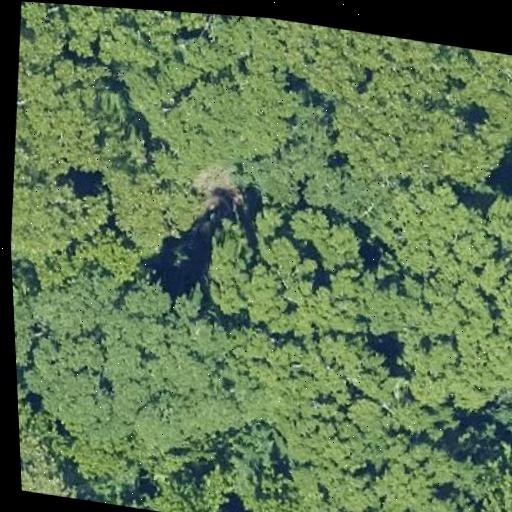tree-top: (12, 272, 252, 463), (234, 325, 421, 484), (326, 77, 506, 199), (367, 271, 507, 413), (63, 4, 265, 99), (11, 63, 135, 187), (372, 176, 491, 284), (200, 220, 329, 318), (191, 62, 305, 169), (96, 151, 205, 259), (366, 419, 491, 512), (7, 168, 111, 273), (280, 99, 370, 218), (270, 18, 395, 103), (471, 204, 512, 390), (449, 46, 512, 134), (292, 205, 371, 275), (69, 228, 147, 292), (146, 458, 235, 512), (466, 421, 512, 512), (20, 441, 88, 500), (16, 1, 76, 66), (17, 374, 52, 458), (486, 165, 512, 278), (247, 478, 332, 512), (325, 464, 380, 512), (72, 484, 161, 512)
